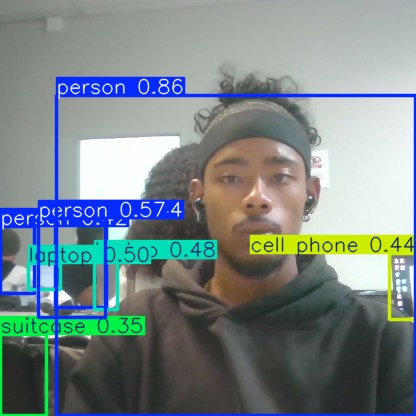earbuds: (303, 195, 316, 219), (193, 197, 205, 221)
laptop: (390, 253, 416, 320), (29, 263, 61, 289)
